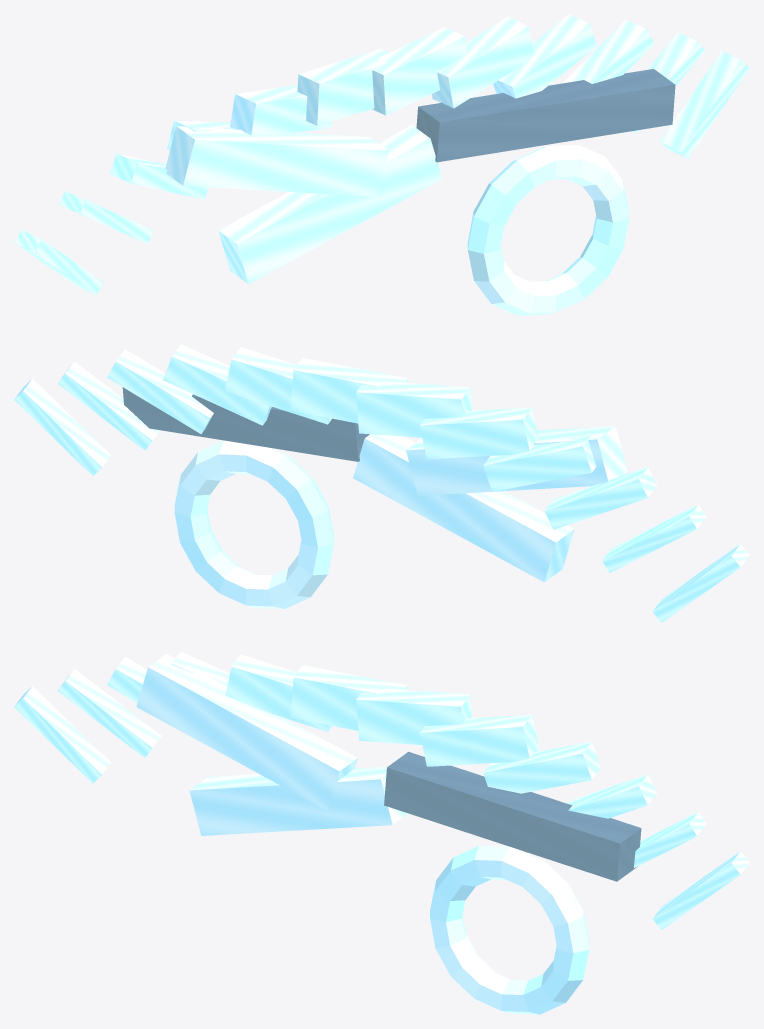
The model's file is sfx-seureung.glb.
The picture shows the model from 3 angles, top to bottom: view 1: azimuth 30°, elevation 25°; view 2: azimuth 150°, elevation 25°; view 3: azimuth 330°, elevation 25°; orthographic projection.
Parts seen in each view (by area): view 1: TS_SfxStamp_seureung; view 2: TS_SfxStamp_seureung; view 3: TS_SfxStamp_seureung.
Part boxes in pixels (bbox=[...]): TS_SfxStamp_seureung: bbox=[14, 14, 749, 315]; TS_SfxStamp_seureung: bbox=[14, 344, 749, 622]; TS_SfxStamp_seureung: bbox=[14, 651, 749, 1014].
Size of the model in its own units: 0.272 by 0.1002 by 0.0262.
1 material, 1 textured.
